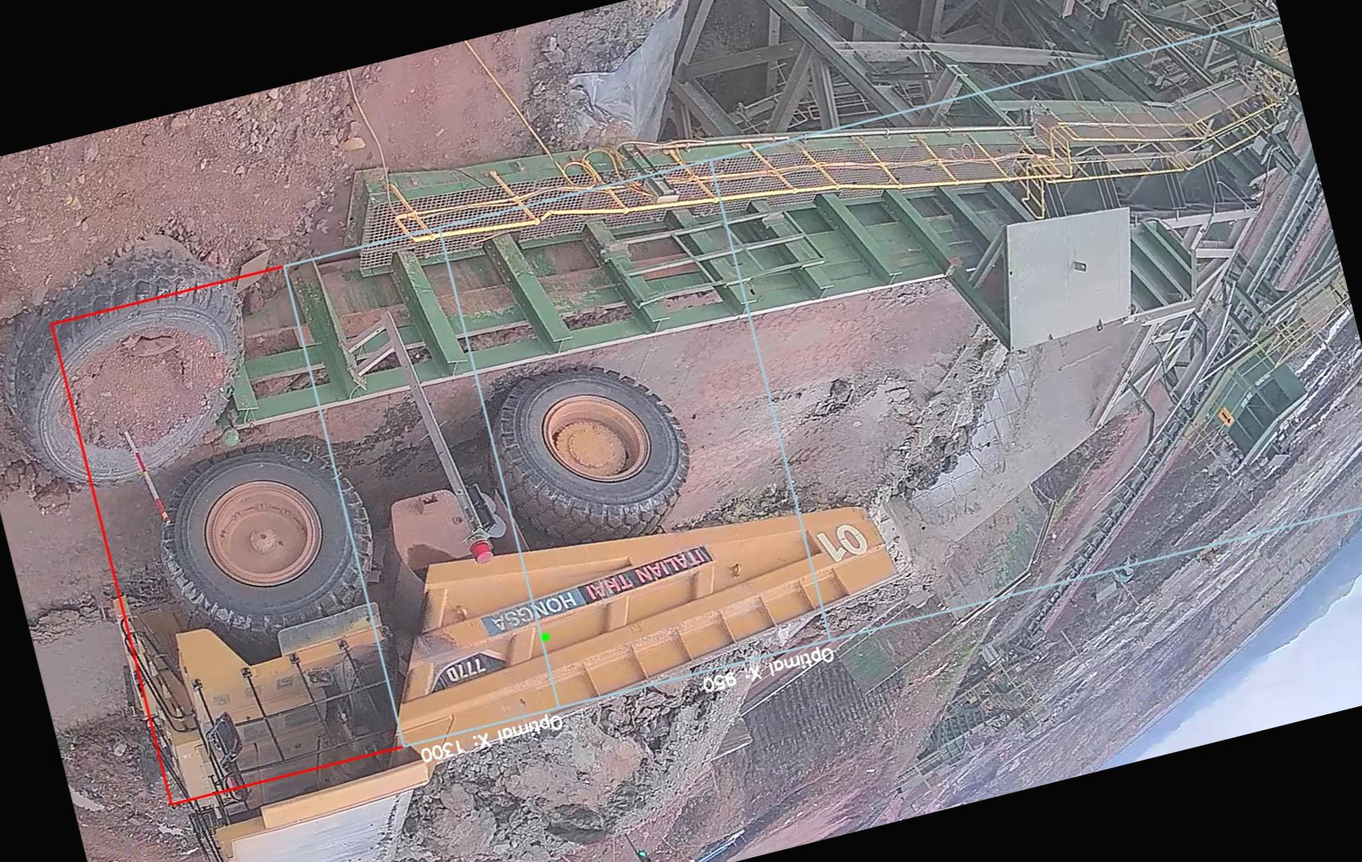company: (468, 538, 729, 640)
full_load: (425, 654, 756, 862)
mining_truck: (60, 282, 964, 862)
tail_number: (802, 504, 886, 581)
truck_size: (421, 643, 522, 704)
